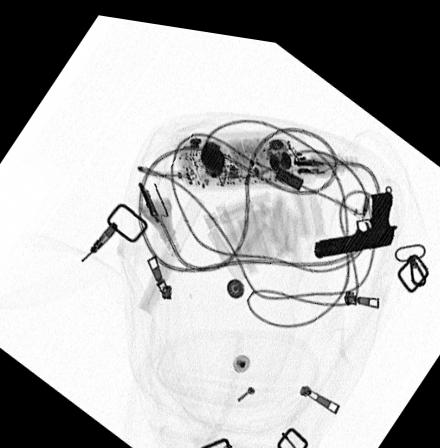Gun: (311, 178, 398, 248)
